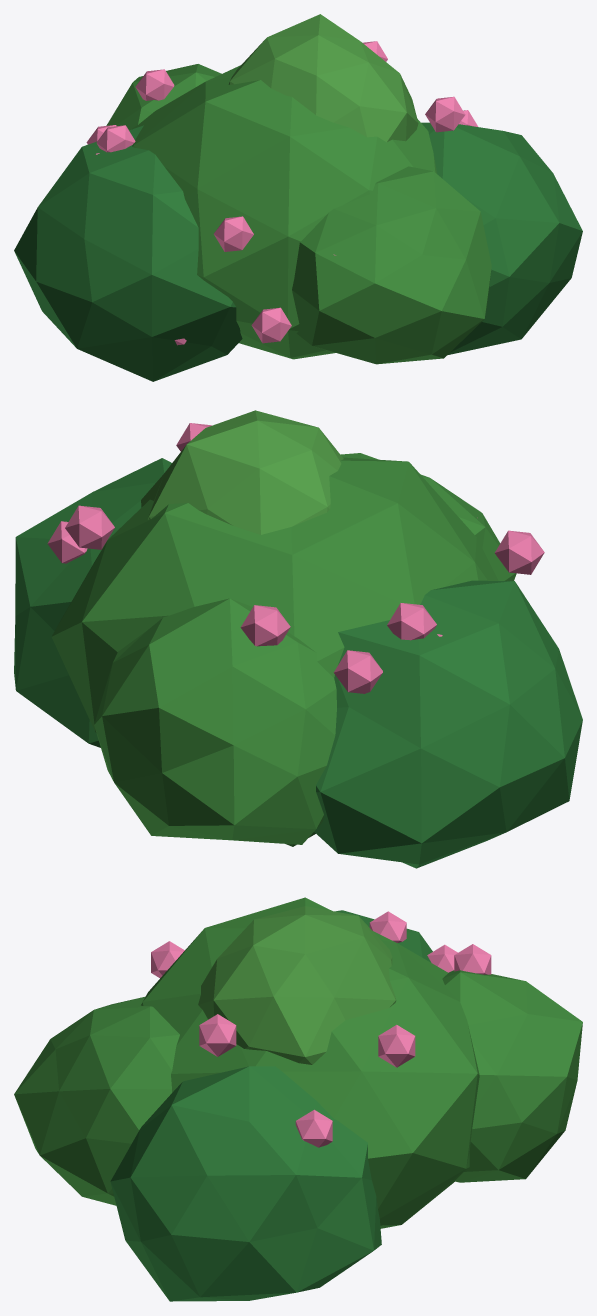
Rendered from arbusto-flores.glb.
The picture shows the model from 3 angles, top to bottom: view 1: azimuth 30°, elevation 25°; view 2: azimuth 150°, elevation 25°; view 3: azimuth 270°, elevation 25°; orthographic projection. The views are drawn at different scales.
Visible parts, largest first — view 1: Folhas, Flores; view 2: Folhas, Flores; view 3: Folhas, Flores.
Part boxes in pixels (bbox=[...]): Folhas: bbox=[14, 14, 582, 381]; Flores: bbox=[86, 41, 478, 345]; Folhas: bbox=[14, 410, 582, 868]; Flores: bbox=[47, 423, 544, 693]; Folhas: bbox=[14, 897, 582, 1301]; Flores: bbox=[151, 911, 491, 1147].
Bounding box in the file's own units: 1.92 × 1.21 × 1.83.
